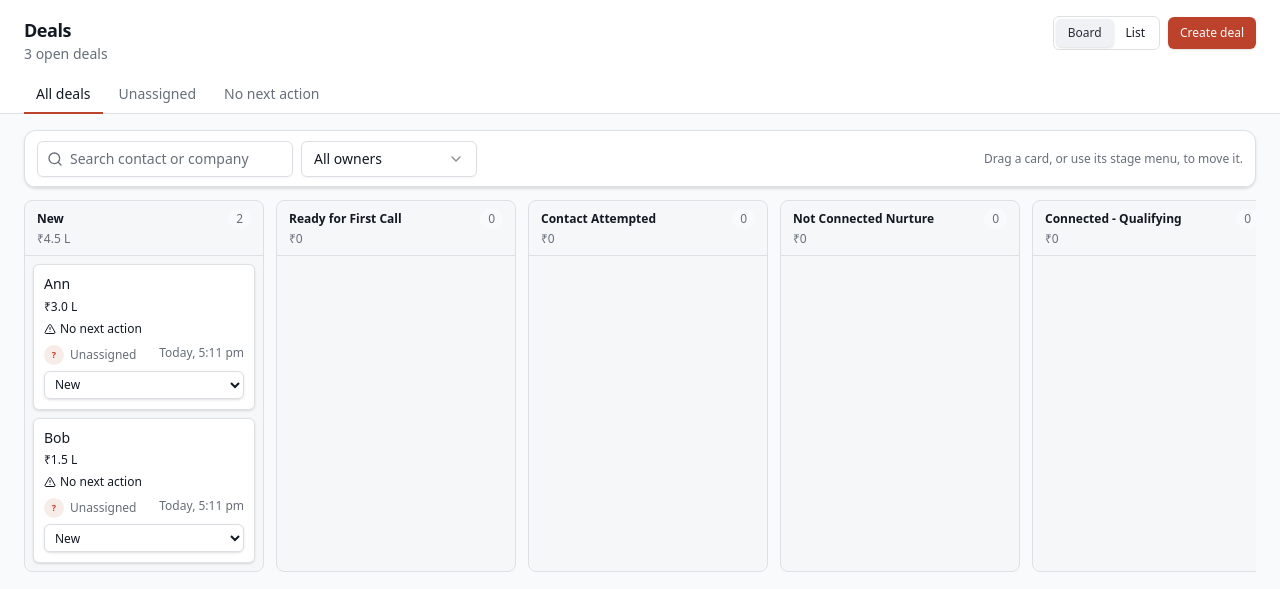
deals board › shows each stage's total and each card's amount; the list has an Amount column
Click the button "List" at (1135, 33), box [1114,19,1157,47]
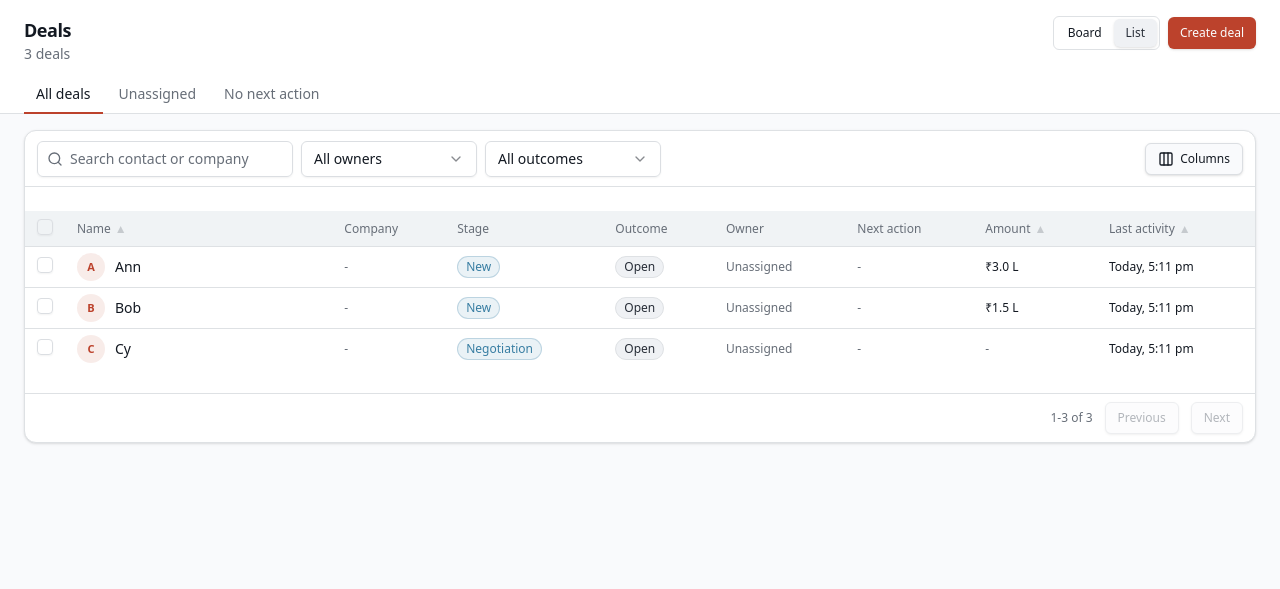
Expected: the text "₹1.5 L" is shown, [985,299,1018,316]
Expected: the column heading "Amount" is shown, [973,211,1097,246]
